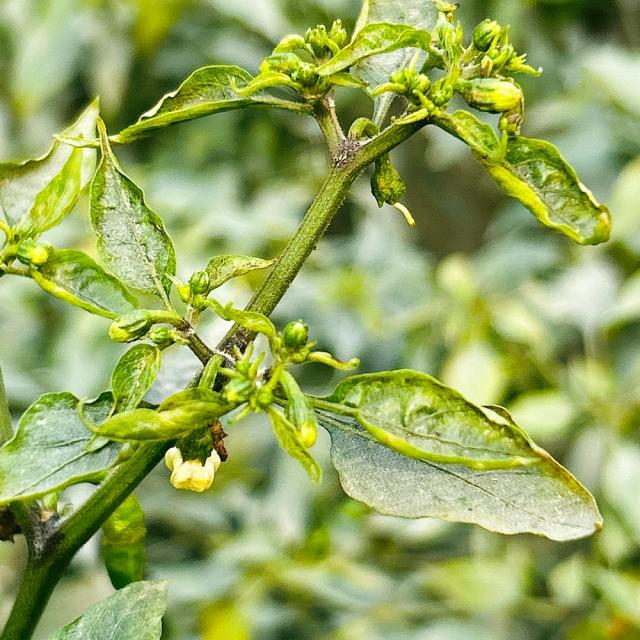Chilli_Leaf_Curl: (1, 2, 612, 634), (310, 367, 604, 542), (0, 94, 102, 268), (86, 116, 177, 296), (112, 62, 314, 143), (473, 132, 612, 246), (0, 389, 131, 506)
